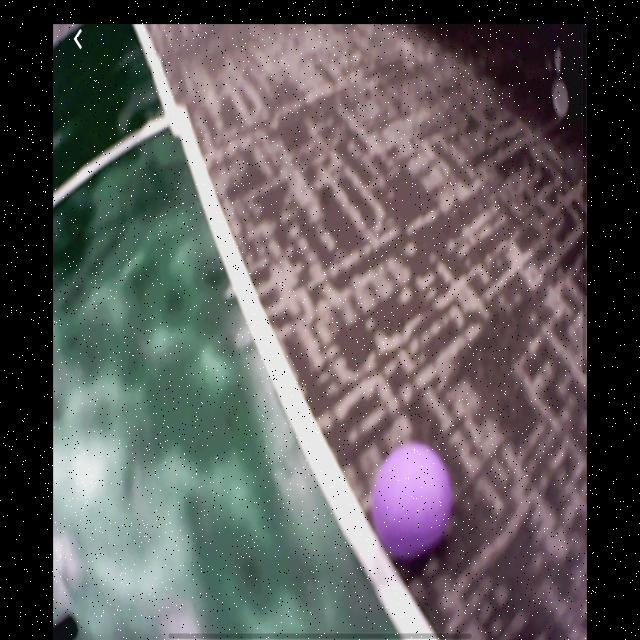ball: (371, 441, 455, 563)
